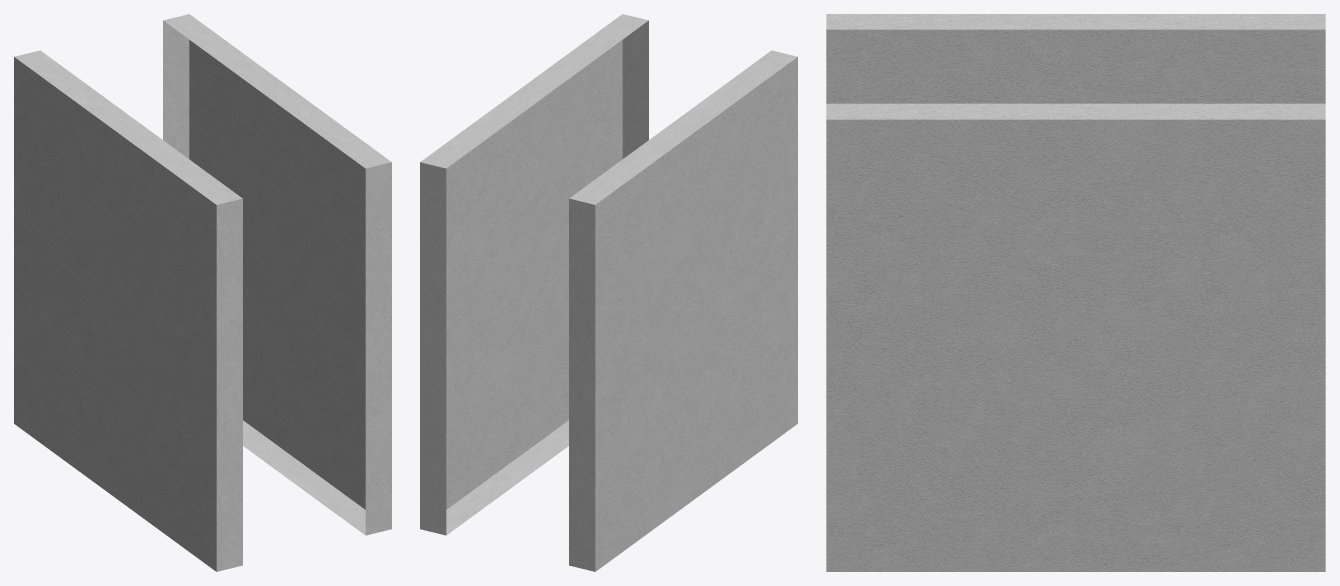
File: simple wall 2x2x1 plaster.fbx
3 views of the same model, side by side, from view 1: azimuth 30°, elevation 25°; view 2: azimuth 150°, elevation 25°; view 3: azimuth 270°, elevation 25° (orthographic). The views are drawn at different scales.
Visible parts, largest first — view 1: Cube; view 2: Cube; view 3: Cube.
Boxes of the visible parts, x1,y1,x2,y2 form: Cube: (14,14,391,571); Cube: (420,14,797,571); Cube: (826,14,1325,571).
Size of the model in its own units: 100 by 200 by 200.
